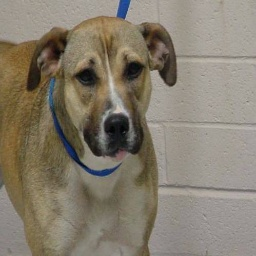dog: (2, 12, 181, 256)
